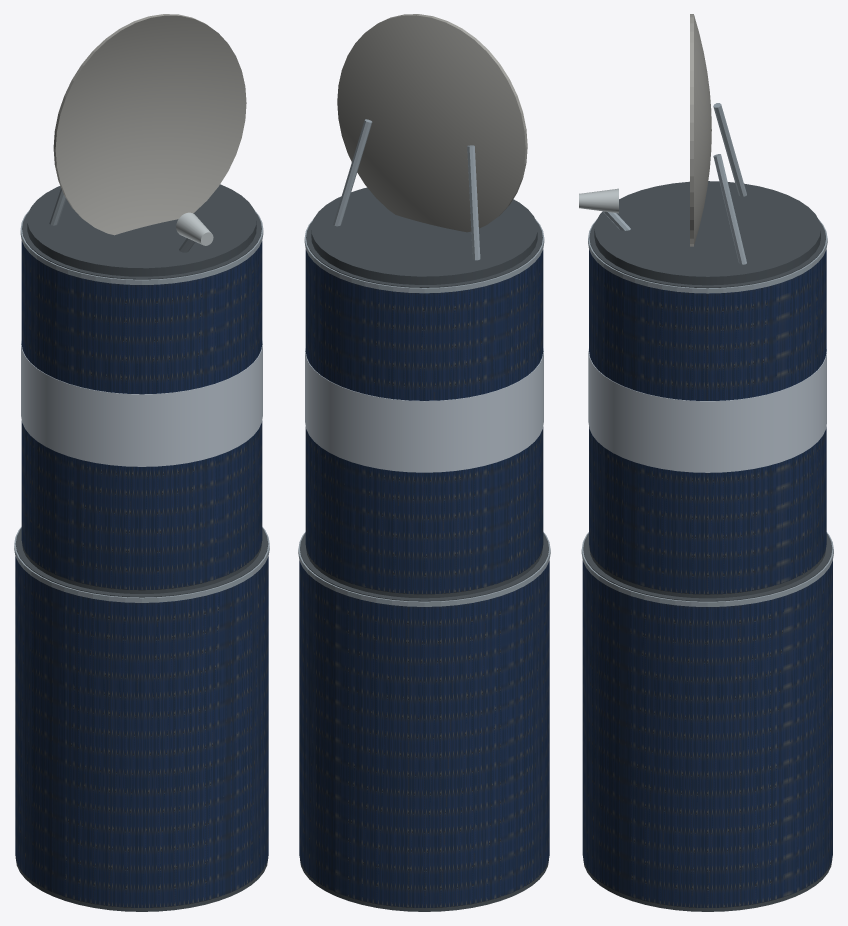
Rendered from astra-2d-3a.glb.
3 renders of one model, left to right at view 1: azimuth 30°, elevation 25°; view 2: azimuth 150°, elevation 25°; view 3: azimuth 270°, elevation 25°, orthographic.
Visible parts, largest first — view 1: Cylindrical solar cells (×2), Broadcast reflector, Thermal control belt, Despun antenna platform, Telescoping solar drum (×2), Drum end ring (×2), Offset feed; view 2: Cylindrical solar cells (×2), Broadcast reflector, Thermal control belt, Despun antenna platform, Telescoping solar drum (×2), Drum end ring (×2), Reflector support (×2); view 3: Cylindrical solar cells (×2), Thermal control belt, Despun antenna platform, Telescoping solar drum (×2), Broadcast reflector, Drum end ring (×2), Reflector support (×2), Offset feed.
Part boxes in pixels (x1,y1,x2,y2): Cylindrical solar cells (×2): [15, 241, 268, 907]; Broadcast reflector: [53, 14, 246, 235]; Thermal control belt: [21, 341, 262, 466]; Despun antenna platform: [27, 184, 256, 276]; Telescoping solar drum (×2): [15, 212, 268, 911]; Drum end ring (×2): [14, 209, 269, 602]; Offset feed: [176, 212, 213, 245]; Cylindrical solar cells (×2): [299, 250, 549, 907]; Broadcast reflector: [337, 14, 527, 232]; Thermal control belt: [305, 348, 543, 472]; Despun antenna platform: [311, 187, 537, 284]; Telescoping solar drum (×2): [300, 221, 548, 911]; Drum end ring (×2): [298, 219, 550, 606]; Reflector support (×2): [333, 119, 480, 260]; Cylindrical solar cells (×2): [582, 250, 832, 907]; Thermal control belt: [588, 349, 826, 472]; Despun antenna platform: [594, 181, 820, 285]; Telescoping solar drum (×2): [583, 222, 832, 911]; Broadcast reflector: [690, 14, 711, 246]; Drum end ring (×2): [581, 219, 833, 606]; Reflector support (×2): [713, 103, 746, 264]; Offset feed: [579, 188, 618, 213].
Size of the model in its own units: 2.19 by 8 by 2.21.
6 materials, 1 textured.
